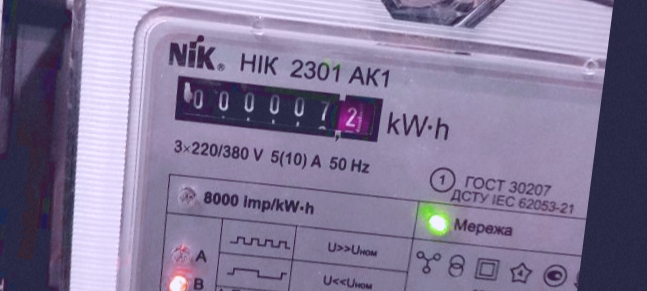0: (190, 85, 207, 110), (267, 91, 284, 116), (242, 89, 258, 114), (216, 88, 232, 112), (292, 94, 308, 118)
2: (344, 104, 360, 129)
7: (318, 97, 333, 122)
screen: (162, 61, 395, 155)
